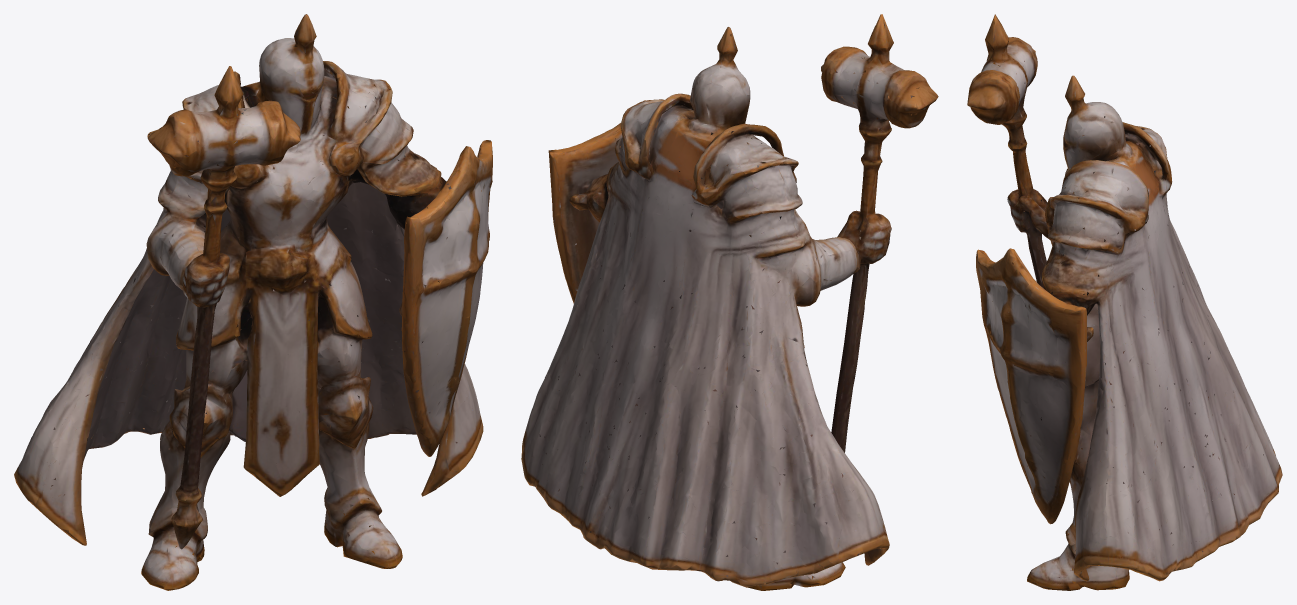
File: gardien_du_roi.glb
The picture shows the model from 3 angles, left to right: view 1: azimuth 30°, elevation 25°; view 2: azimuth 150°, elevation 25°; view 3: azimuth 270°, elevation 25°; orthographic projection. The views are drawn at different scales.
Bounding box in the file's own units: 0.7842 × 0.9993 × 0.5827.
1 material, 1 textured.
